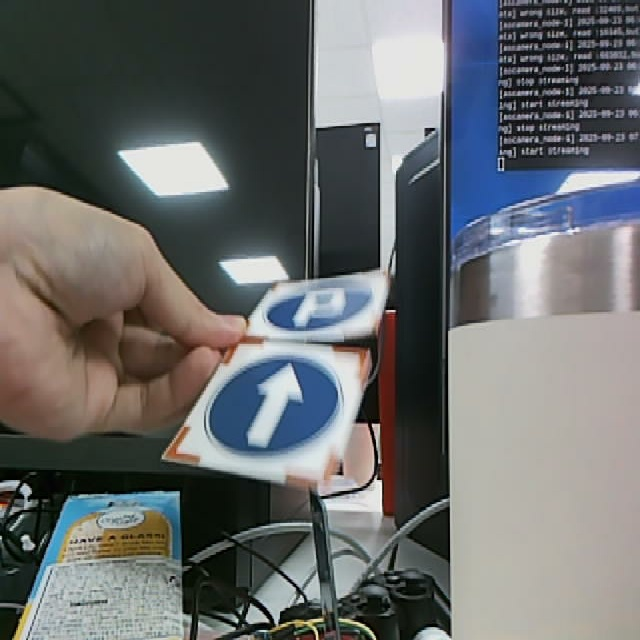parking: (245, 274, 388, 339)
straight: (162, 337, 369, 492)
